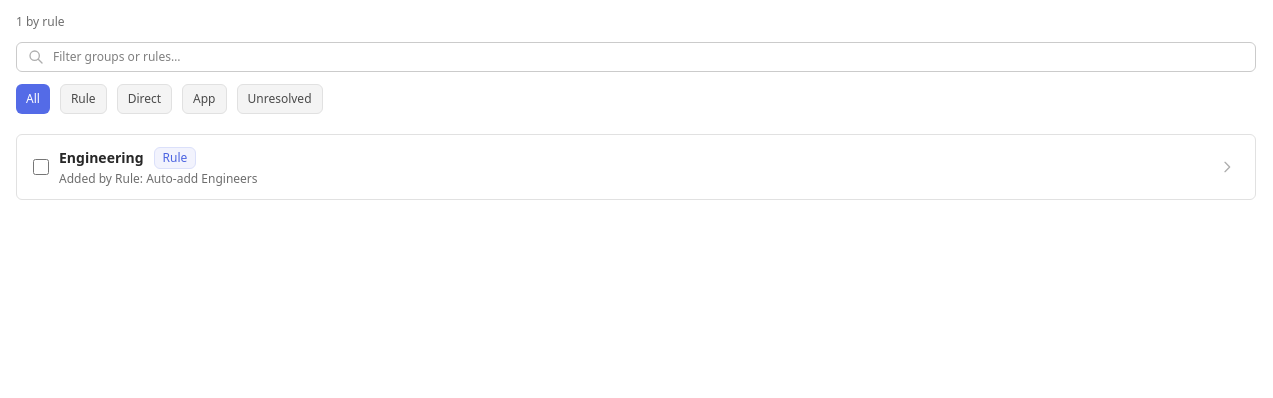
Test: GroupMembershipsList › falls back to the raw condition when no user is supplied to explain it against
The width and height of the screenshot is (1273, 398).
Click the button named "Show how Engineering was granted": (1227, 167) [1215,155,1239,179]
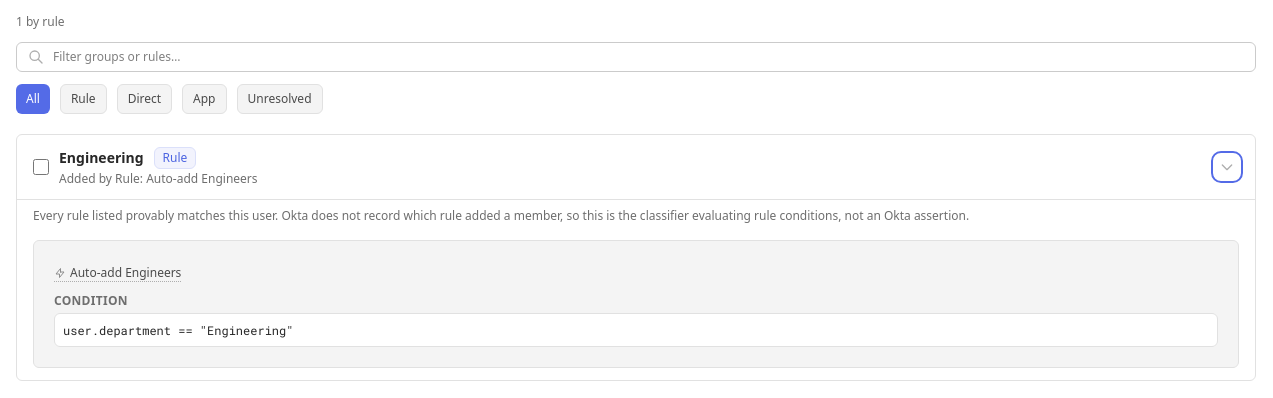
Now the text "user.department == \"Engineering\"" is shown, box [54,313,1218,347]
